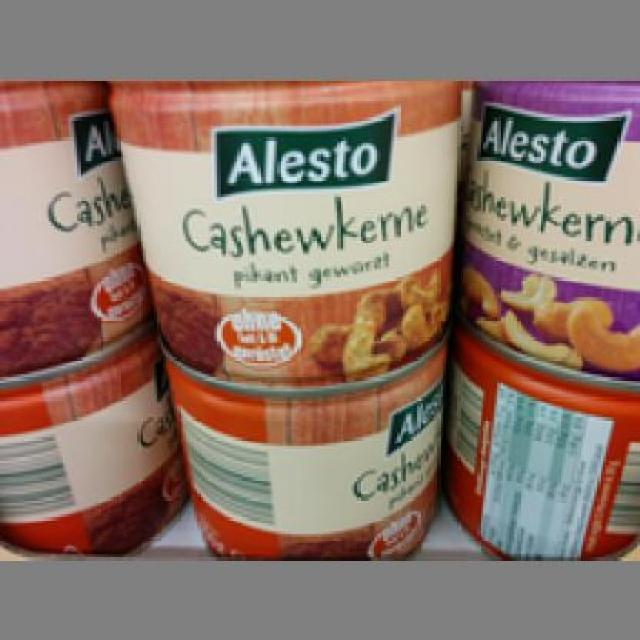Nuts: (103, 76, 463, 392), (150, 337, 447, 557), (445, 80, 638, 383), (440, 314, 637, 557)
